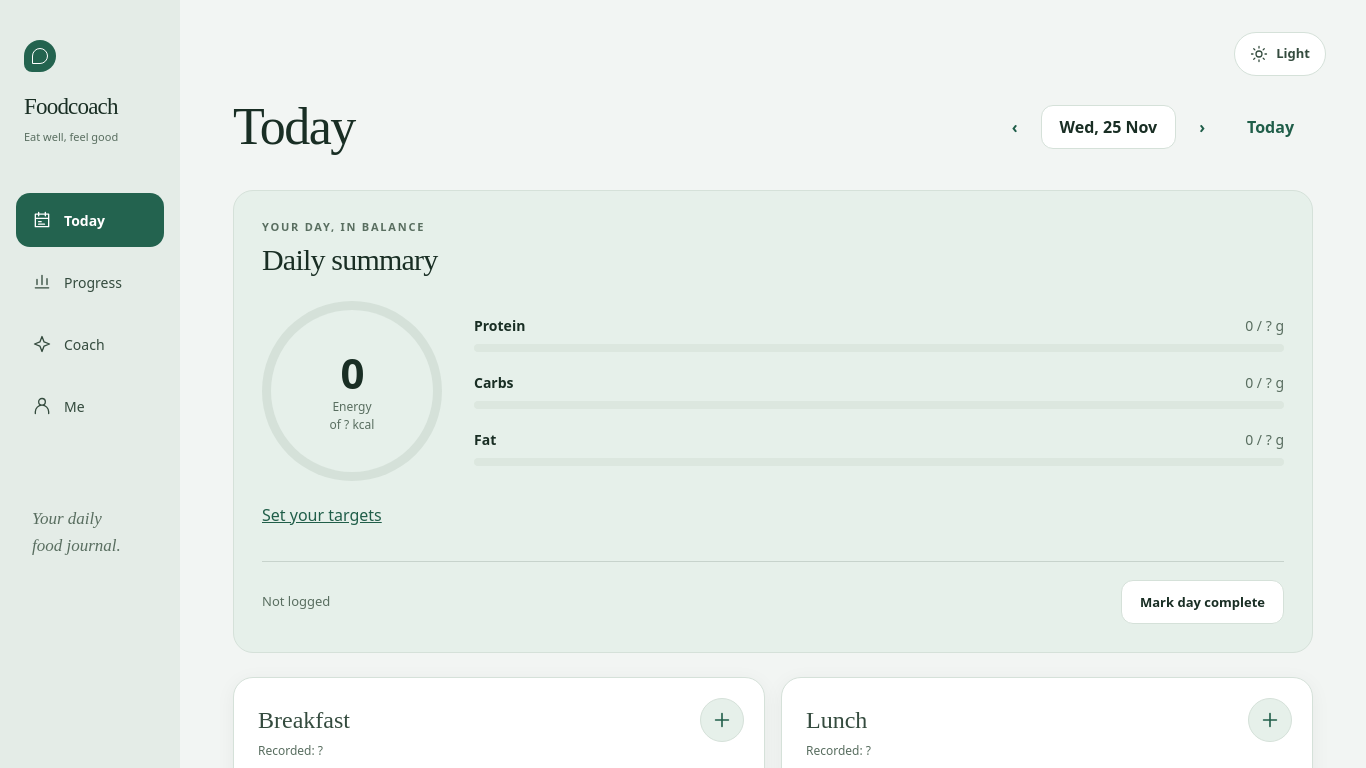
it: App shell › shell shows four destinations
Expected: the text "Foodcoach" is shown, x1=24 y1=94 x2=118 y2=119
Expected: the text "Eat well, feel good" is shown, x1=24 y1=128 x2=118 y2=144
Click the link "Me" at (42, 406), box x1=32 y1=396 x2=85 y2=416
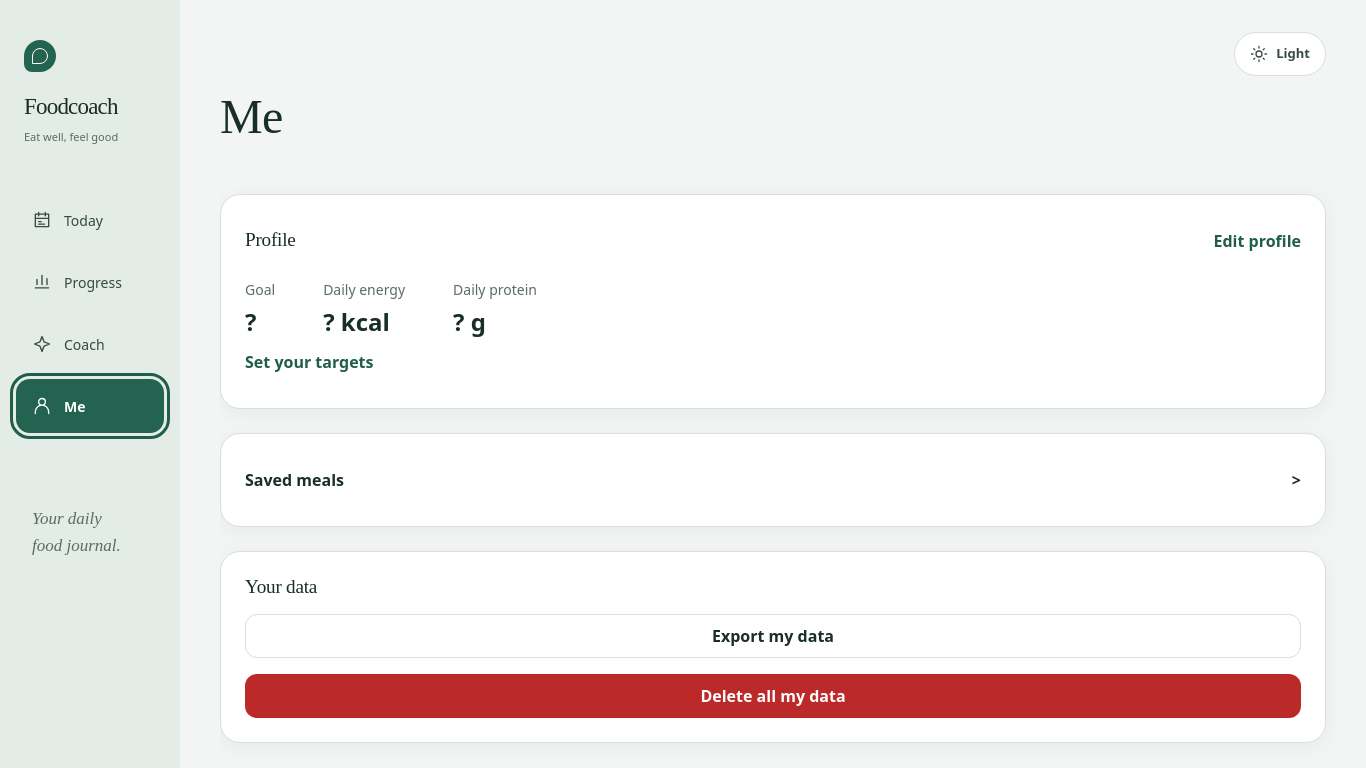
Result: the heading "Me" is shown at x1=220 y1=88 x2=283 y2=146
